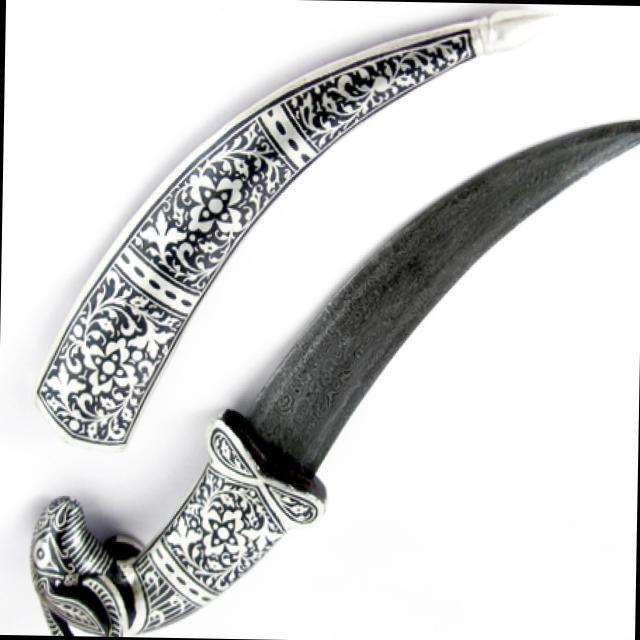Gun: (46, 68, 627, 640)
